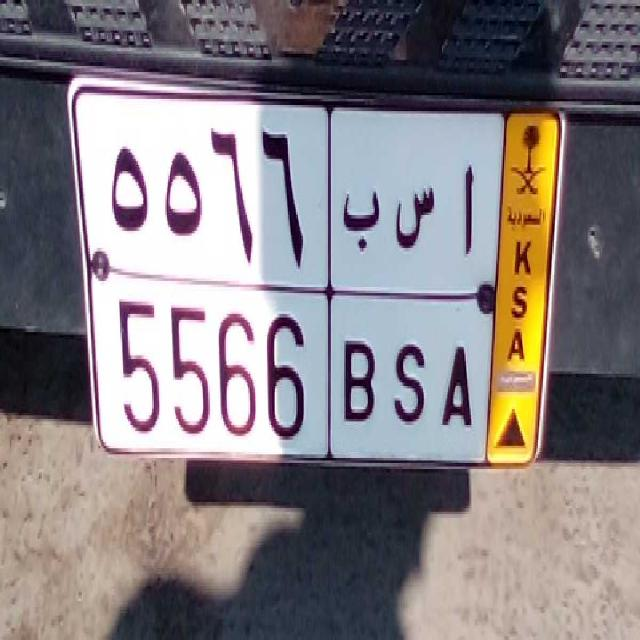license_plate: (100, 271, 483, 458)
